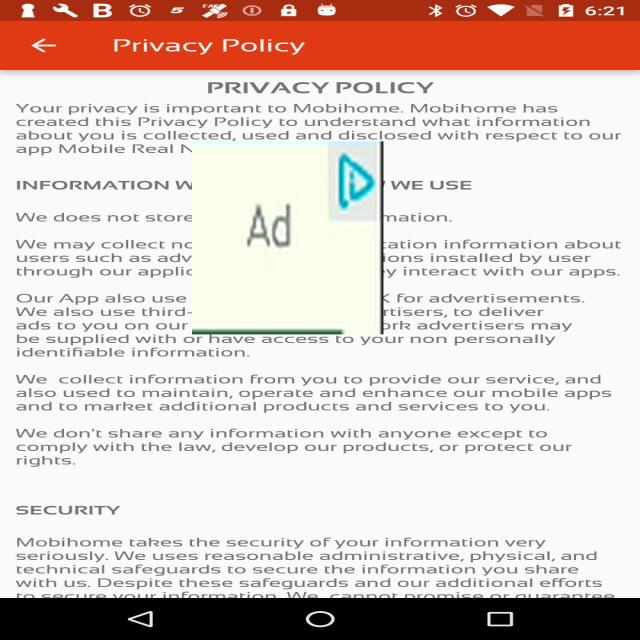sneaking: (192, 142, 383, 334)
